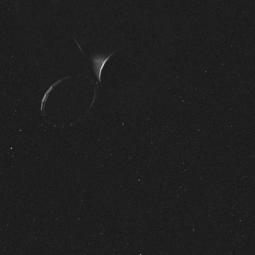cheops: (35, 26, 144, 122)
